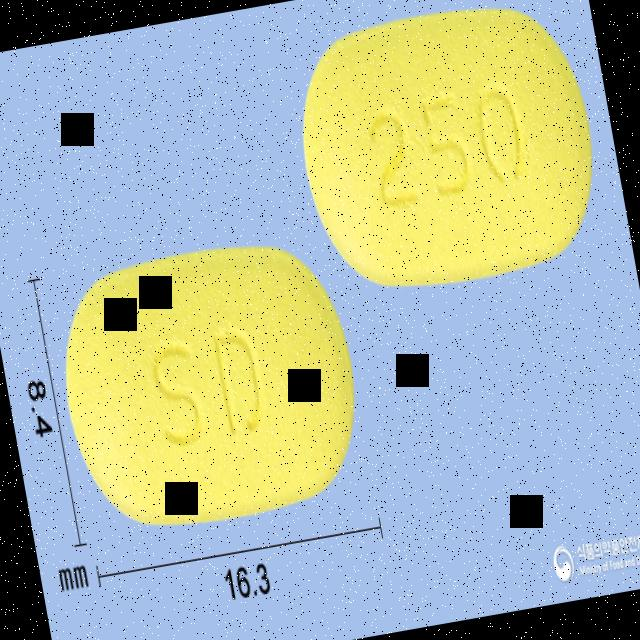Clabio - 500mg: (42, 221, 380, 552), (281, 0, 616, 312)
